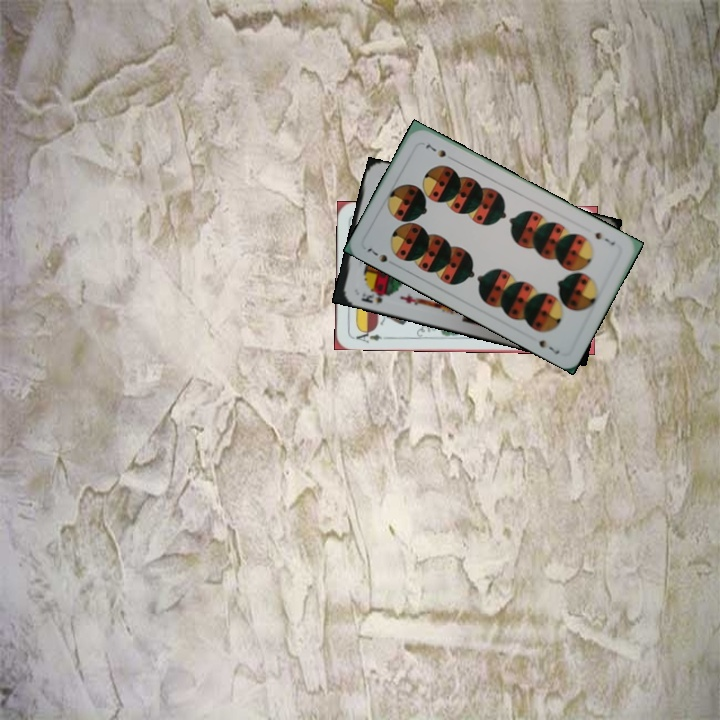EA: (349, 326, 390, 345)
S7: (363, 244, 399, 268), (591, 228, 618, 248)
SK: (357, 286, 391, 306)
